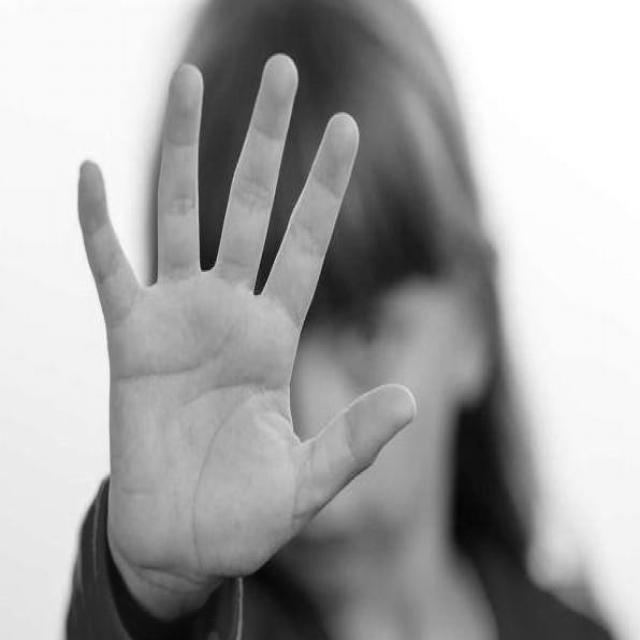stop: (73, 44, 421, 592)
